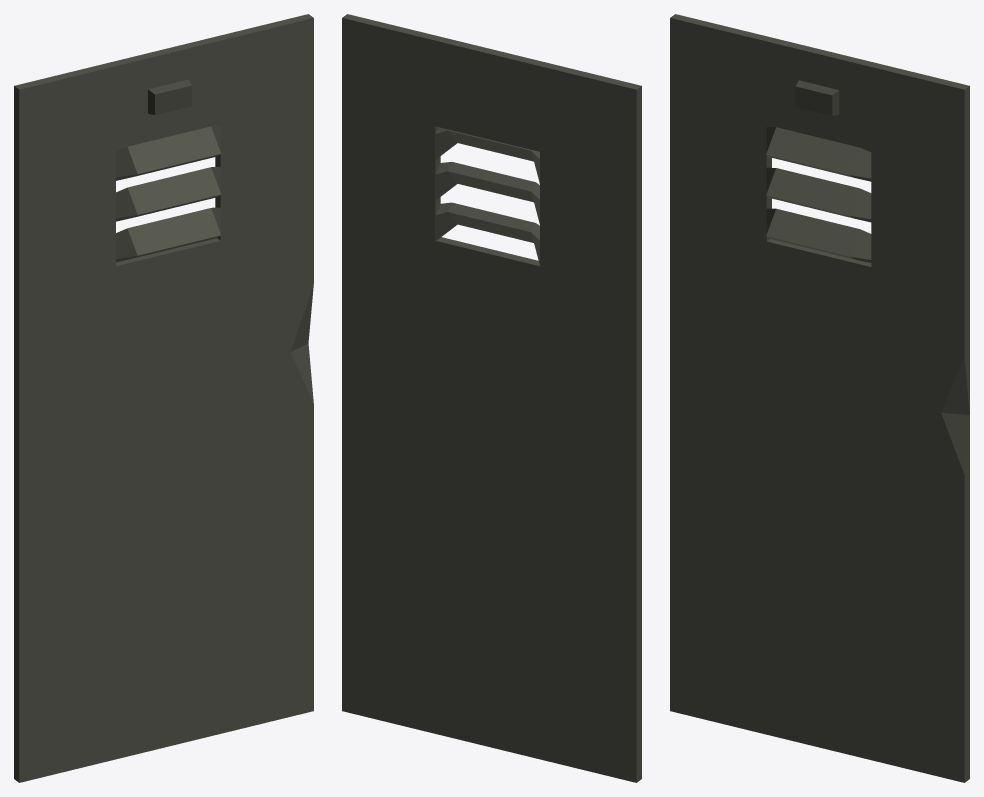
The model's file is SM_Prop_Lockers_Door_01.fbx.
3 renders of one model, left to right at view 1: azimuth 30°, elevation 25°; view 2: azimuth 150°, elevation 25°; view 3: azimuth 330°, elevation 25°, orthographic.
Parts seen in each view (by area): view 1: SM_Prop_Lockers_Door_01; view 2: SM_Prop_Lockers_Door_01; view 3: SM_Prop_Lockers_Door_01.
Boxes of the visible parts, x1,y1,x2,y2 form: SM_Prop_Lockers_Door_01: [14, 14, 313, 782]; SM_Prop_Lockers_Door_01: [342, 14, 641, 782]; SM_Prop_Lockers_Door_01: [670, 14, 969, 782].
Bounding box in the file's own units: 60.28 × 136 × 5.83.
